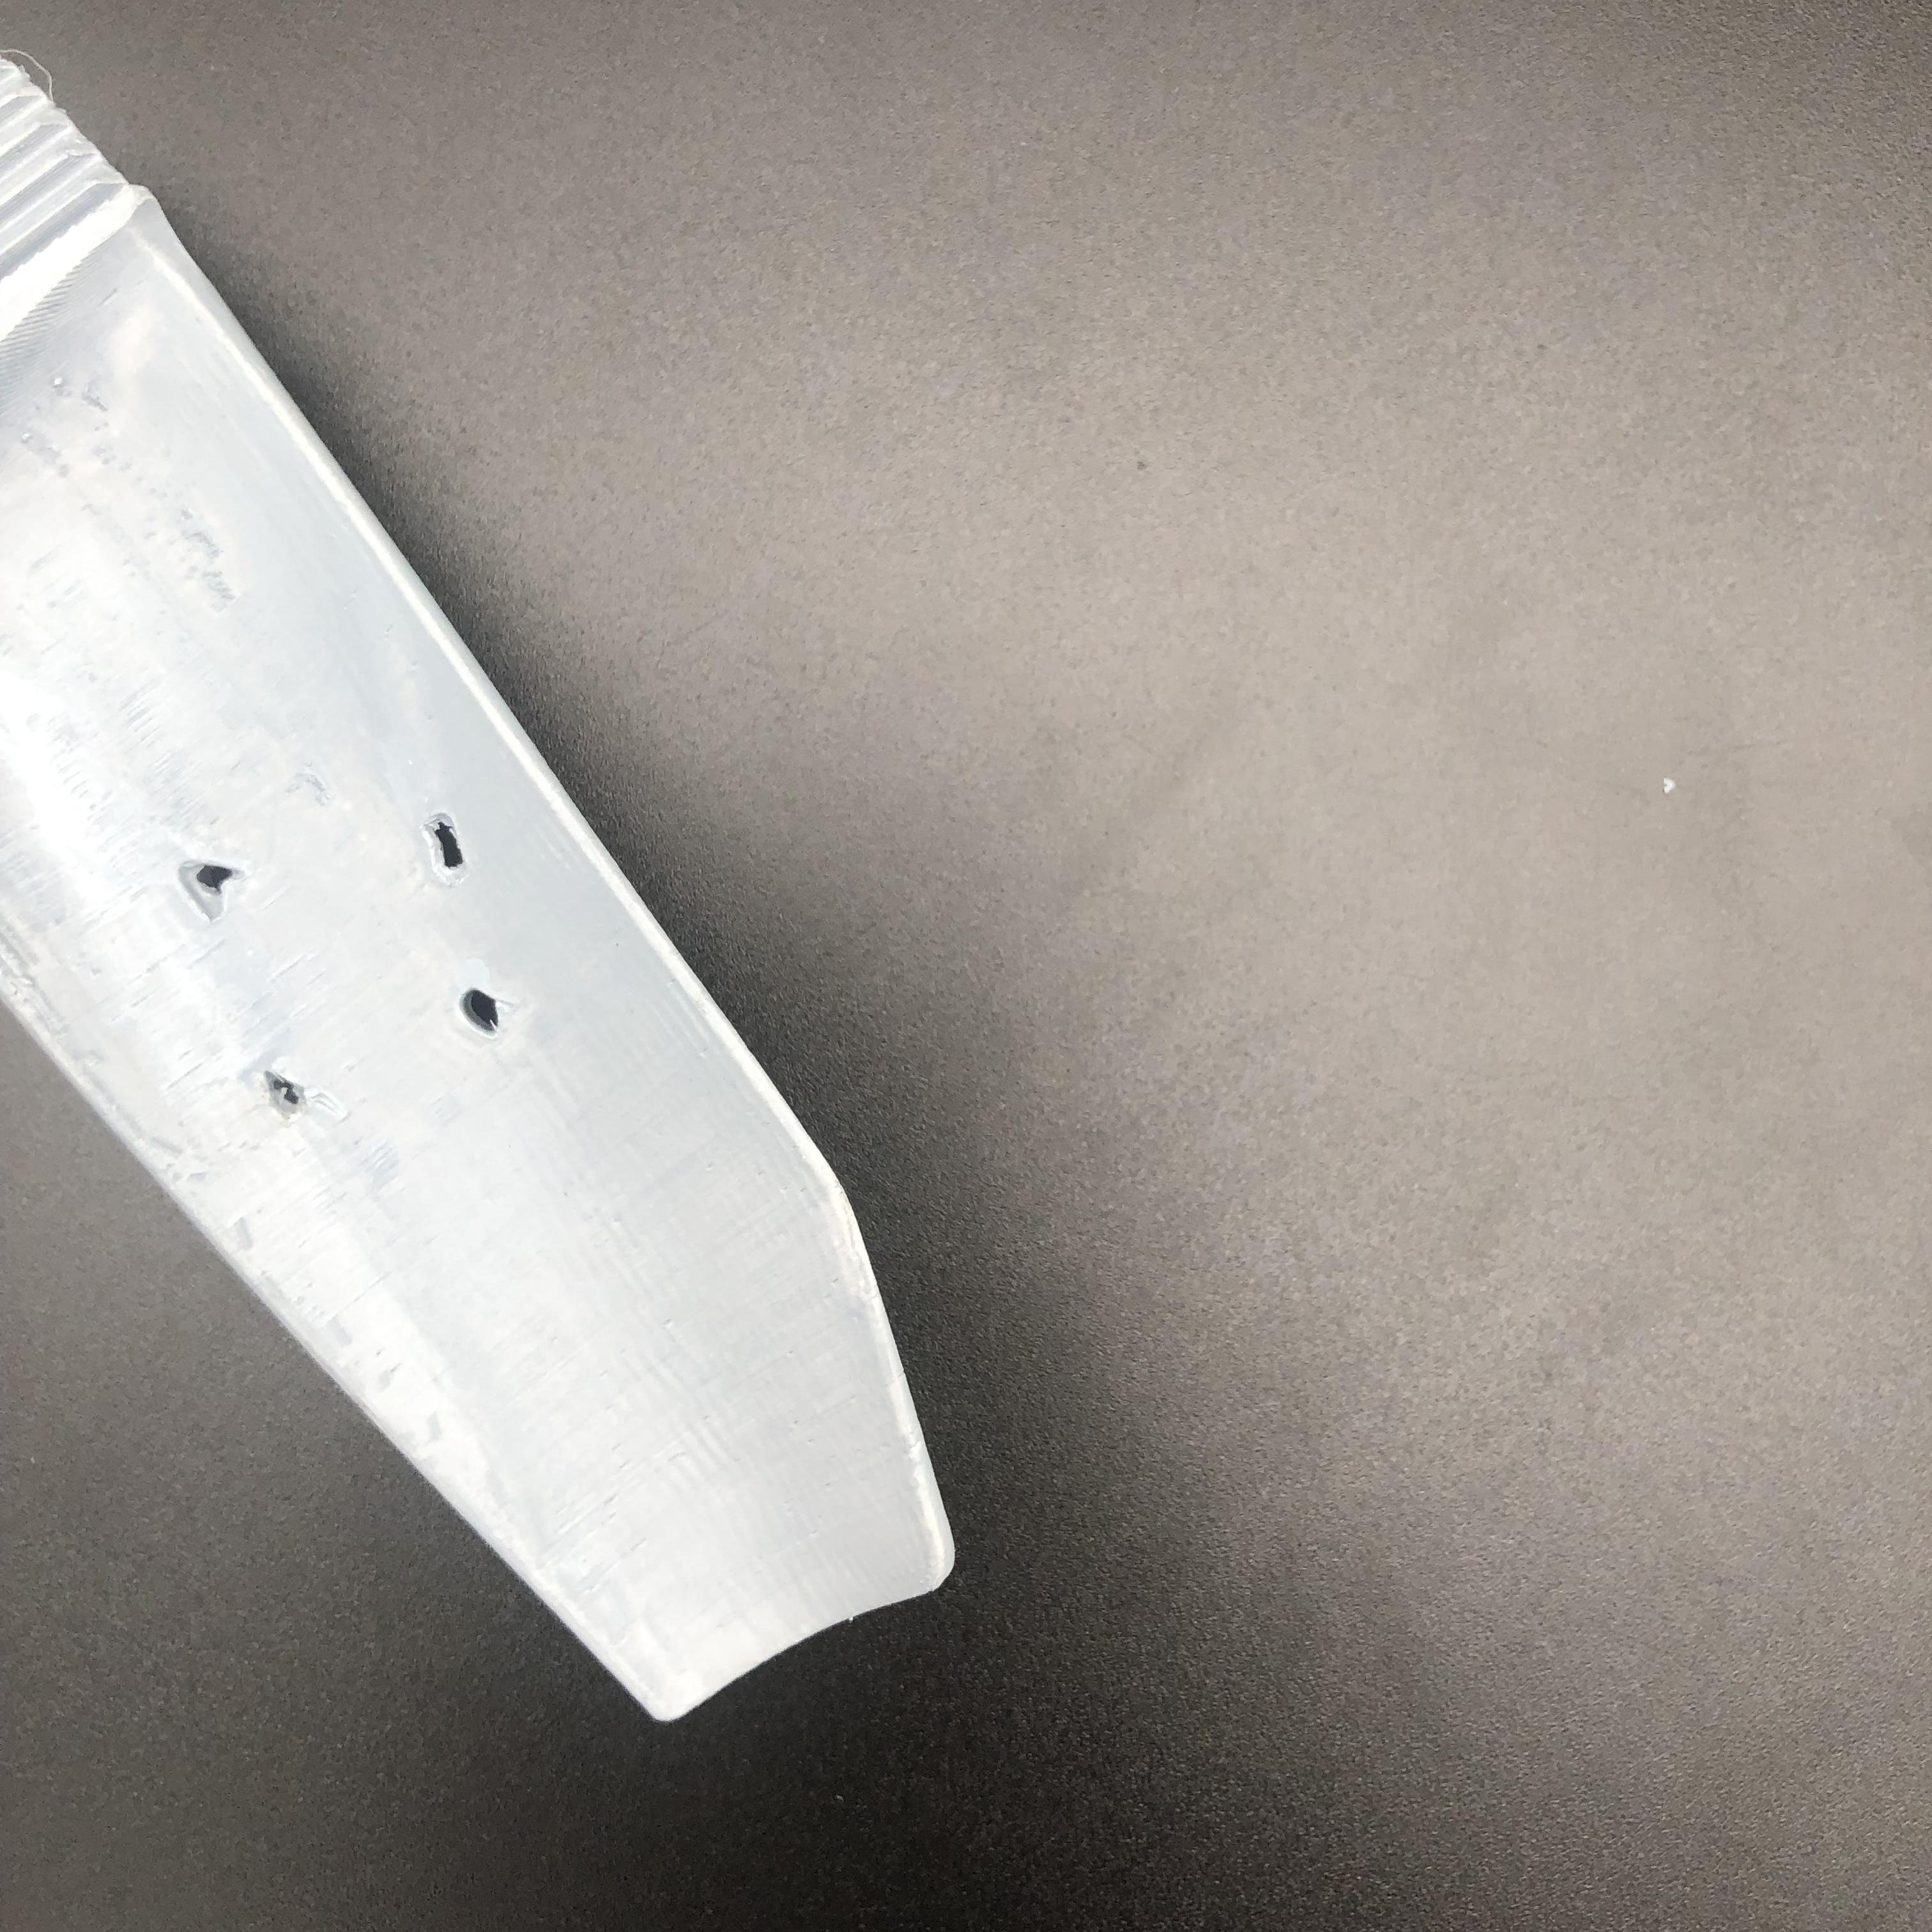breakdown: (186, 826, 510, 1118)
